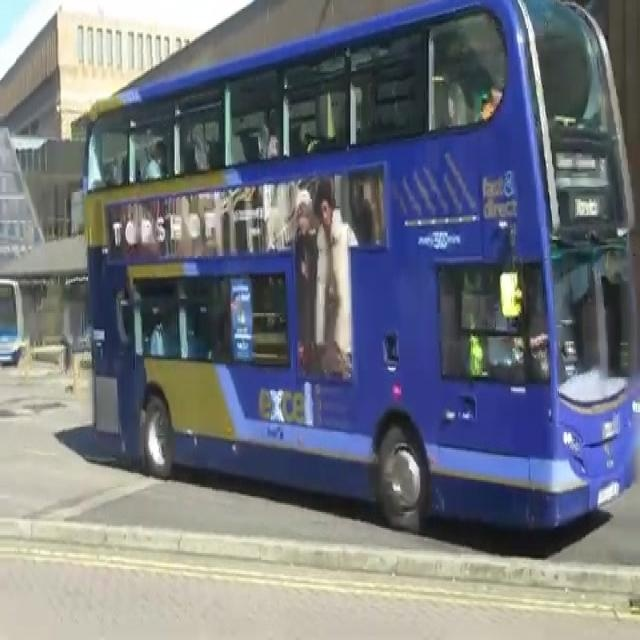Bus: (88, 3, 640, 537), (0, 282, 25, 364)
